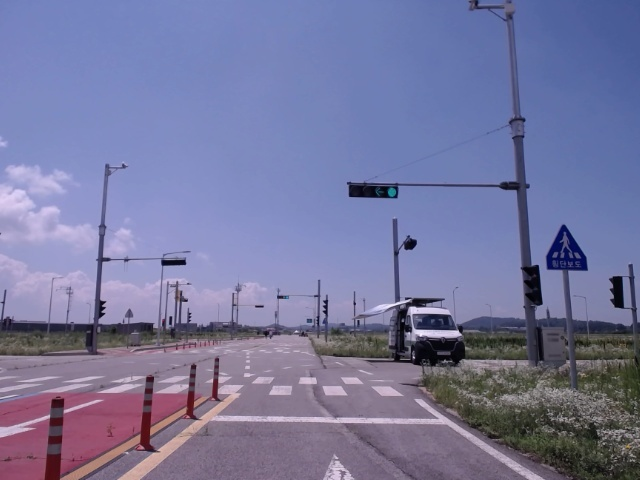all_green_4: (350, 182, 397, 197)
